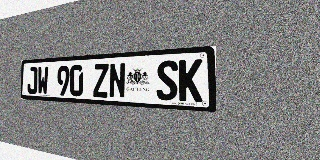0: (70, 65, 83, 97)
9: (57, 65, 70, 96)
J: (27, 67, 37, 94)
K: (179, 59, 203, 102)
N: (109, 63, 126, 99)
S: (156, 60, 178, 101)
W: (37, 66, 48, 95)
Z: (93, 63, 109, 98)
